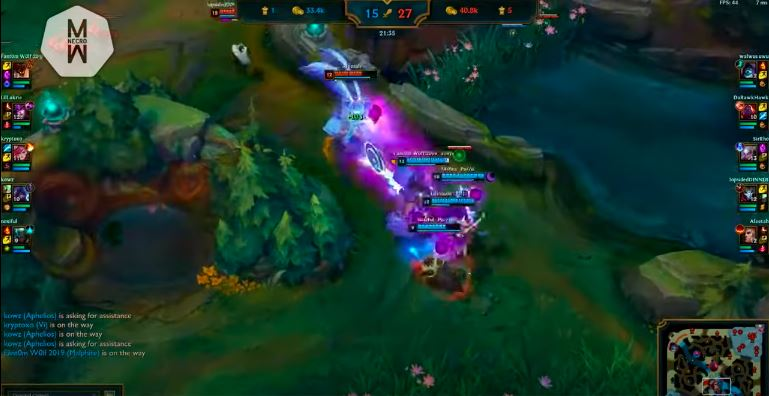bar: (209, 4, 265, 22), (422, 195, 480, 208), (323, 68, 380, 81), (431, 171, 489, 183), (406, 222, 466, 232), (397, 156, 450, 166)
